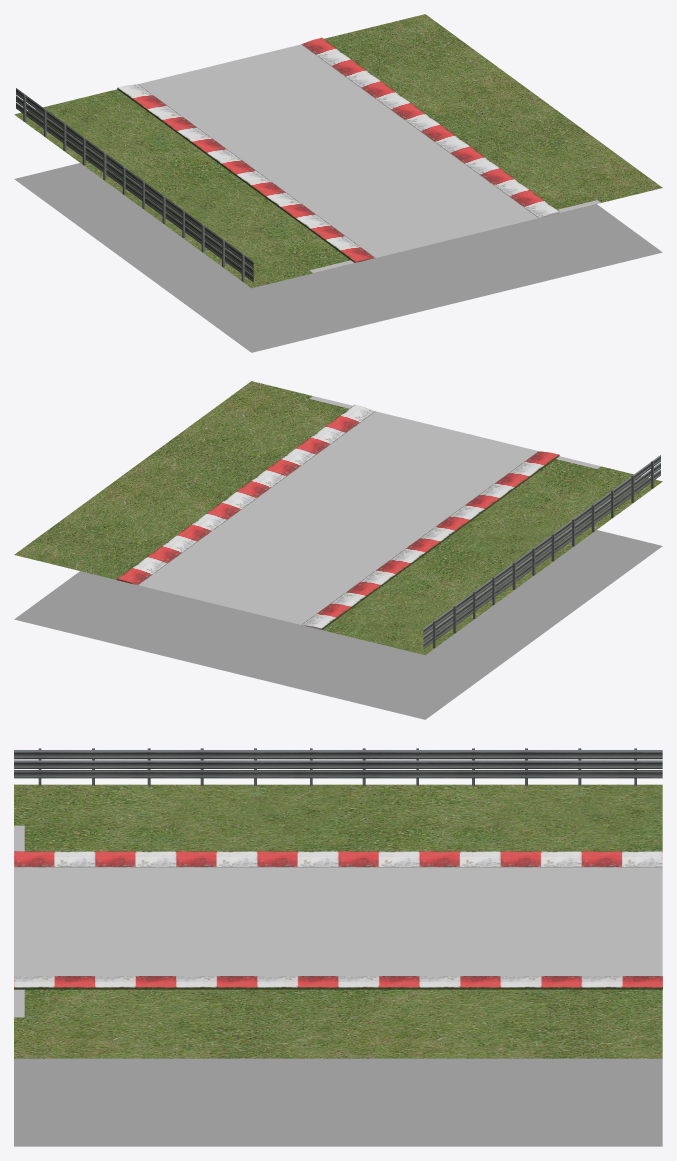
The model's file is Track_Thin_Join_B_Mobile.fbx.
3 renders of one model, top to bottom at view 1: azimuth 30°, elevation 25°; view 2: azimuth 150°, elevation 25°; view 3: azimuth 270°, elevation 25°, orthographic. The views are drawn at different scales.
Parts seen in each view (by area): view 1: Grass, Snap_Plane_Invisible, Road, Curb_B, Rail_A, Curb_A; view 2: Grass, Snap_Plane_Invisible, Road, Curb_B, Rail_A, Curb_A; view 3: Grass, Road, Snap_Plane_Invisible, Rail_A, Curb_A, Curb_B, Join_Lines.
Boxes of the visible parts, x1=… form: Grass: x1=14, y1=14, x2=662, y2=288; Snap_Plane_Invisible: x1=14, y1=163, x2=662, y2=352; Road: x1=138, y1=44, x2=538, y2=257; Curb_B: x1=301, y1=37, x2=559, y2=217; Rail_A: x1=16, y1=88, x2=253, y2=281; Curb_A: x1=117, y1=84, x2=375, y2=262; Grass: x1=14, y1=381, x2=662, y2=655; Snap_Plane_Invisible: x1=14, y1=530, x2=662, y2=719; Road: x1=138, y1=411, x2=538, y2=624; Curb_B: x1=117, y1=405, x2=375, y2=585; Rail_A: x1=423, y1=455, x2=660, y2=648; Curb_A: x1=301, y1=451, x2=559, y2=629; Grass: x1=14, y1=784, x2=662, y2=1058; Road: x1=14, y1=867, x2=662, y2=975; Snap_Plane_Invisible: x1=14, y1=1058, x2=662, y2=1146; Rail_A: x1=14, y1=748, x2=662, y2=785; Curb_A: x1=14, y1=851, x2=662, y2=867; Curb_B: x1=14, y1=976, x2=662, y2=989; Join_Lines: x1=14, y1=825, x2=24, y2=1017.
Bounding box in the file's own units: 20 × 4.24 × 20.01.
